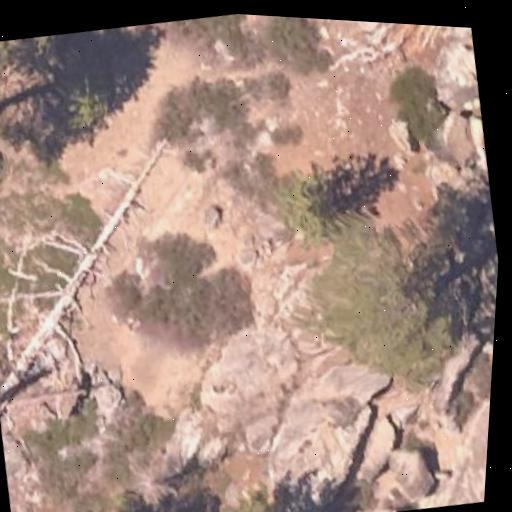tree-top: (301, 209, 494, 395), (32, 52, 132, 150), (263, 154, 366, 248), (199, 458, 331, 512), (54, 476, 168, 512)
